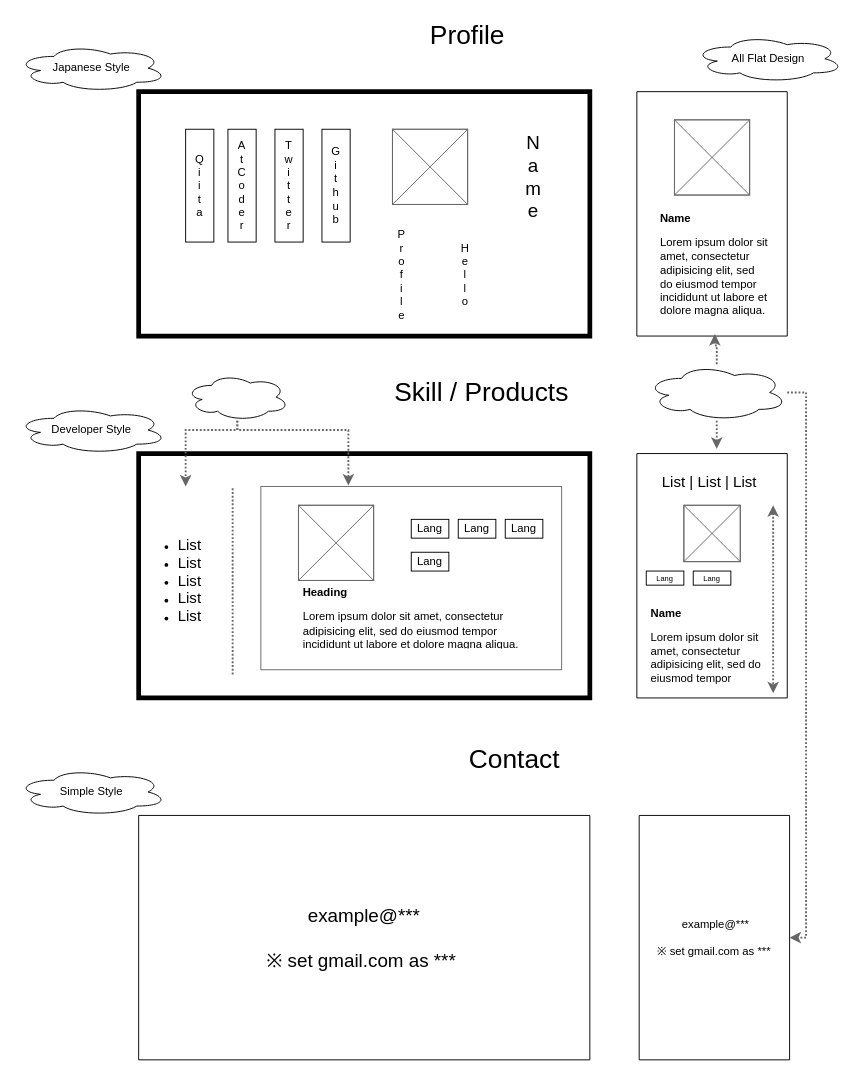
Image size: 860x1076. Some labels were removed from this diagram. The shapes that lost their labels are listed below. From the top down, each one's centre as x and y in pixels, then its label:
At (x=237, y=397): "Fake SPA".
At (x=716, y=392): "Move with flick".
